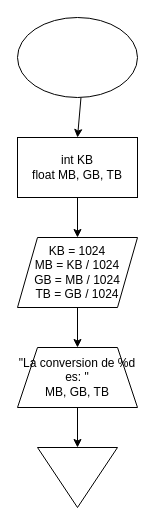
This 155x525 diagram has some shape labels left out. Here are the shapes that lost their labels. From the top down, the box of each, then its label:
(16, 16, 138, 98): Conversor unidades
(36, 446, 118, 508): fin
